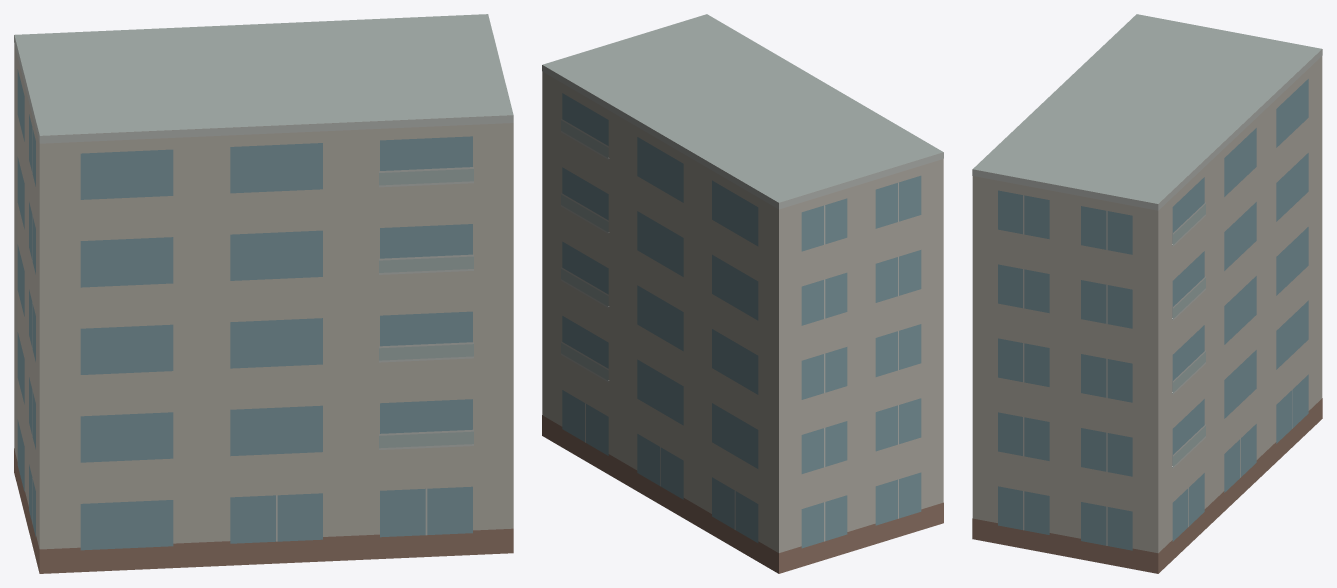
The model's file is survey-upis-33035414.glb.
3 views of the same model, side by side, from view 1: azimuth 30°, elevation 25°; view 2: azimuth 150°, elevation 25°; view 3: azimuth 270°, elevation 25° (orthographic). The views are drawn at different scales.
Visible parts, largest first — view 1: survey-upis-33035414.tmp; view 2: survey-upis-33035414.tmp; view 3: survey-upis-33035414.tmp.
Part boxes in pixels (x1,y1,x2,y2): survey-upis-33035414.tmp: [14, 14, 513, 573]; survey-upis-33035414.tmp: [542, 14, 943, 573]; survey-upis-33035414.tmp: [972, 14, 1322, 573].
Size of the model in its own units: 15 by 13.6 by 11.67.
